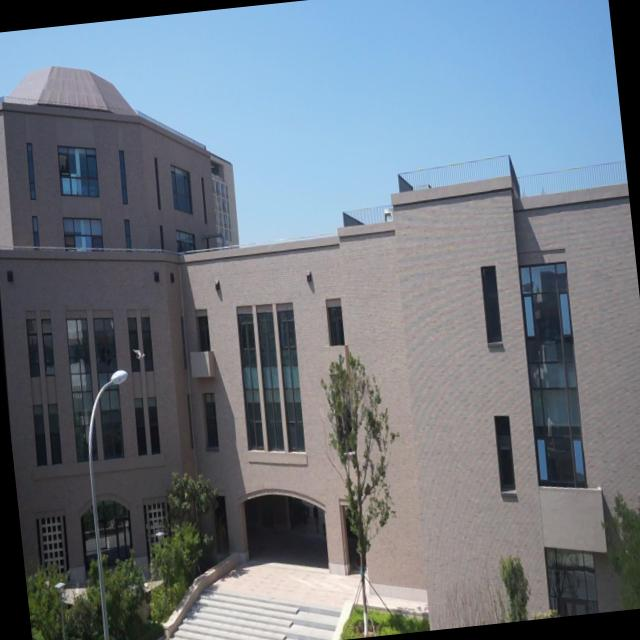drone: (130, 340, 148, 366)
